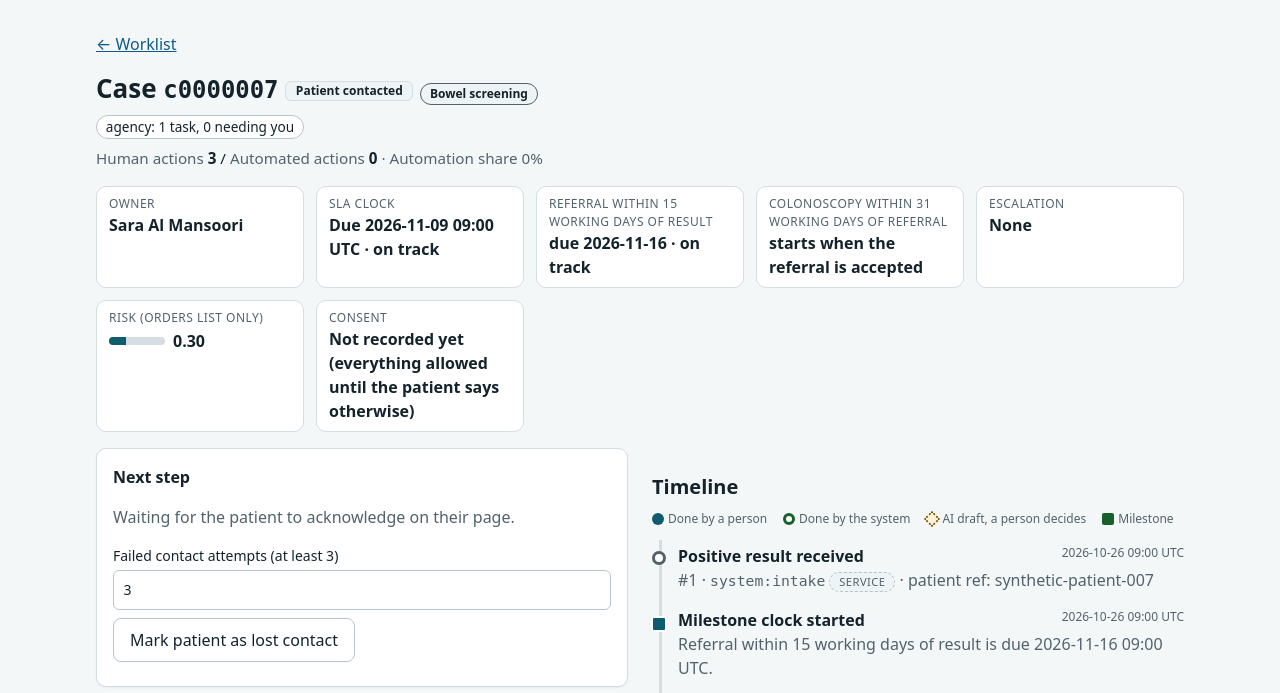
it: Case detail: vocabulary and markers › mark lost contact posts mark_lost_contact and shows a banner
Click the button with test id "mark-lost-contact": click(234, 640) [113,618,355,662]
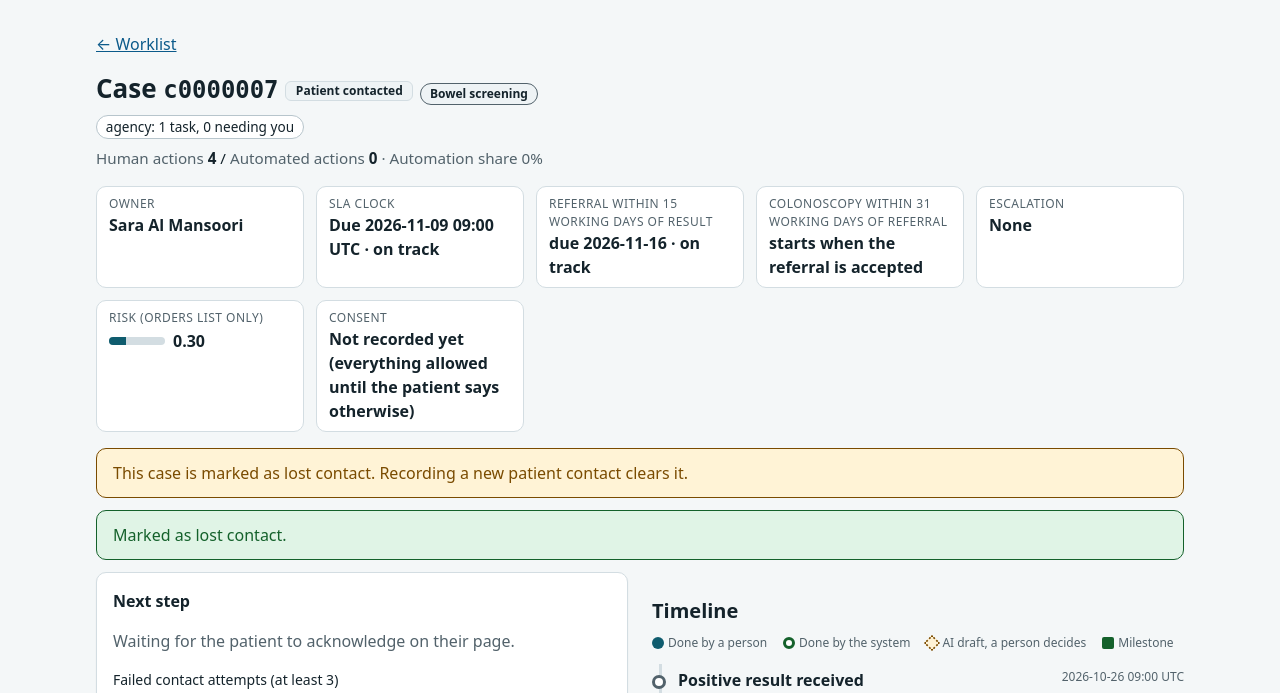
Result: the message with test id "lost-contact-banner" is shown at [96,448,1184,498]
